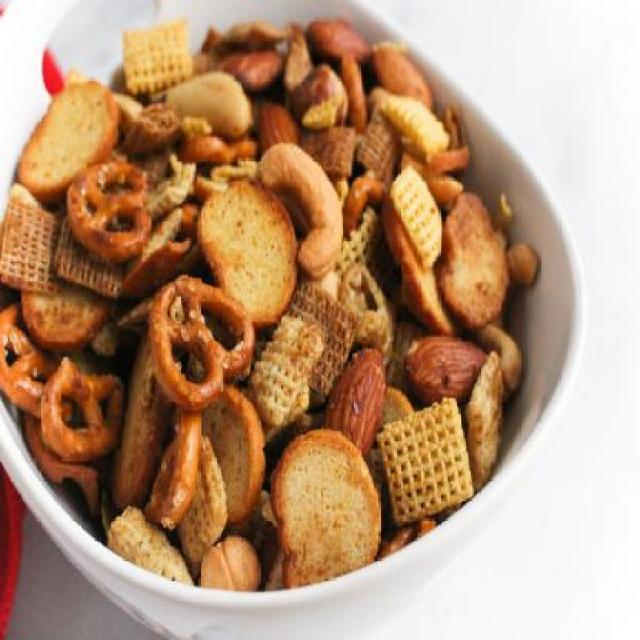Salatini packaged: (26, 21, 532, 550)
